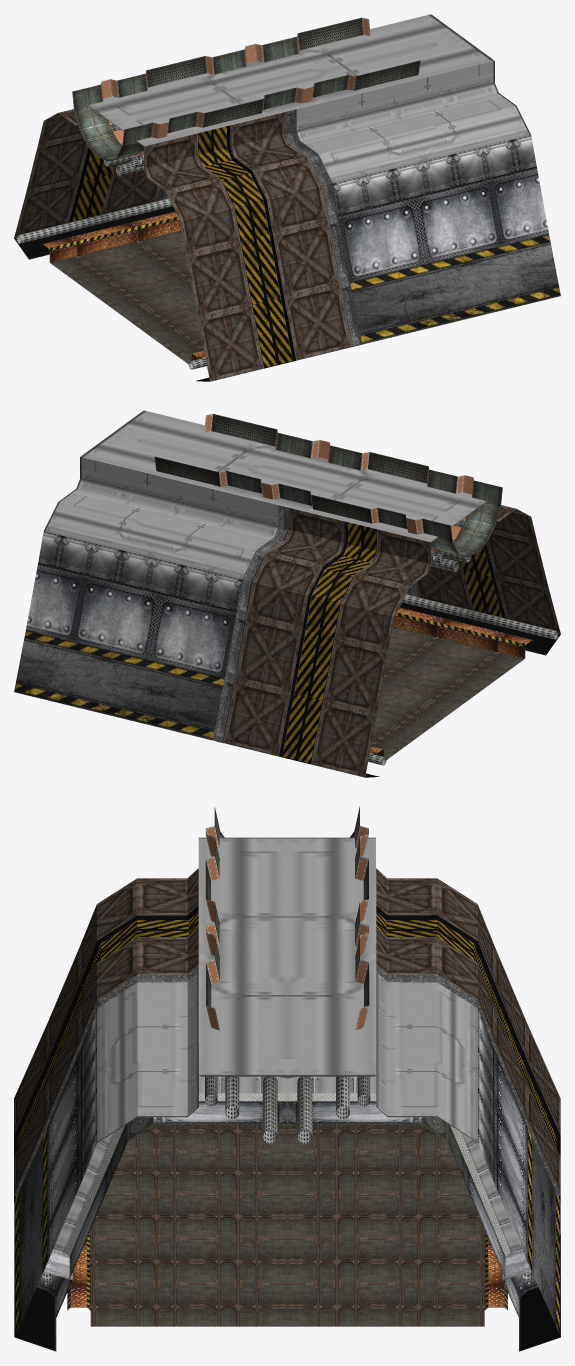
The model's file is testiram_jedan_segment_6.obj.
3 renders of one model, top to bottom at view 1: azimuth 30°, elevation 25°; view 2: azimuth 150°, elevation 25°; view 3: azimuth 270°, elevation 25°, orthographic. The views are drawn at different scales.
Size of the model in its own units: 3.01 by 1.68 by 2.8.
